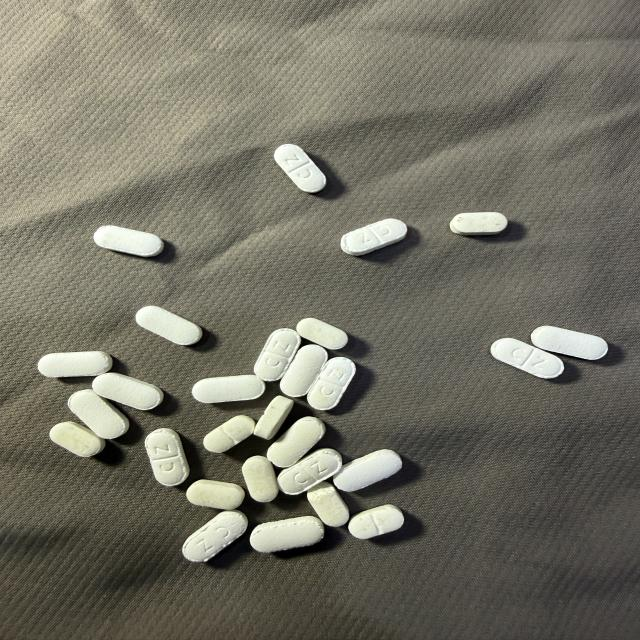pill: (183, 511, 248, 562), (68, 389, 129, 438), (267, 417, 325, 467), (491, 338, 563, 378), (278, 449, 342, 494), (334, 450, 402, 491), (144, 428, 190, 486), (250, 516, 324, 552), (93, 373, 163, 410), (136, 306, 202, 345), (274, 144, 326, 193), (307, 357, 355, 410), (532, 326, 608, 359), (280, 345, 327, 396), (254, 329, 300, 381), (341, 219, 407, 255), (94, 226, 163, 257), (192, 375, 265, 403), (204, 415, 255, 453), (50, 422, 105, 457), (38, 351, 112, 377), (349, 505, 404, 539), (307, 482, 349, 526), (186, 480, 244, 509), (254, 396, 293, 439), (242, 456, 278, 502), (297, 318, 348, 349), (449, 212, 508, 236)
